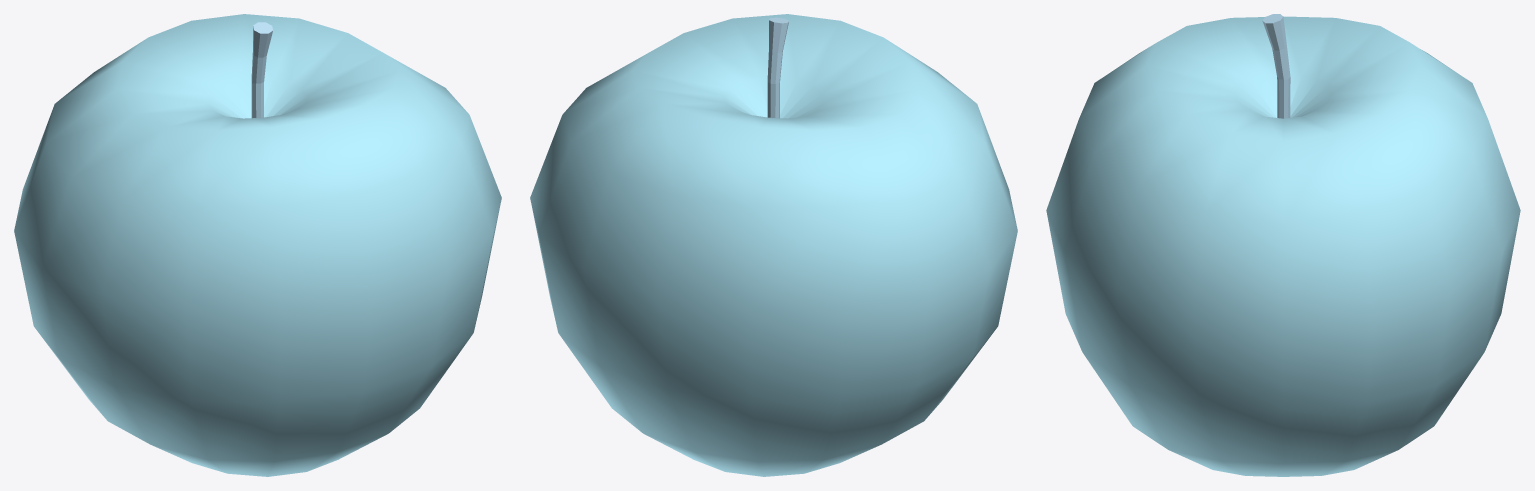
The model's file is Apple5star.fbx.
The picture shows the model from 3 angles, left to right: view 1: azimuth 30°, elevation 25°; view 2: azimuth 150°, elevation 25°; view 3: azimuth 270°, elevation 25°; orthographic projection. The views are drawn at different scales.
Parts seen in each view (by area): view 1: Apple; view 2: Apple; view 3: Apple.
Boxes of the visible parts, box(x1,y1,x2,y2) form: Apple: box(14, 14, 501, 476); Apple: box(530, 14, 1017, 476); Apple: box(1046, 14, 1520, 476).
Size of the model in its own units: 223 by 204 by 207.
